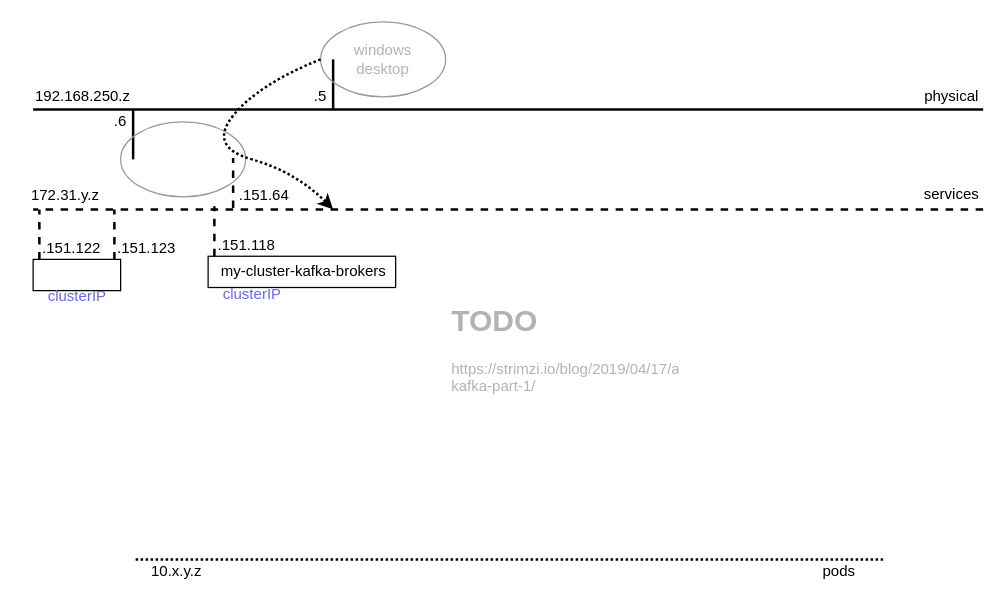
Image size: 1008x606. Some labels were removed from this diagram. The shapes that lost their labels are listed below. From the top down, each one's box as (x1, y1, x2, y2) in pixels, then its label:
(119, 121, 246, 197): redhat host
(32, 258, 121, 291): kube-dns
